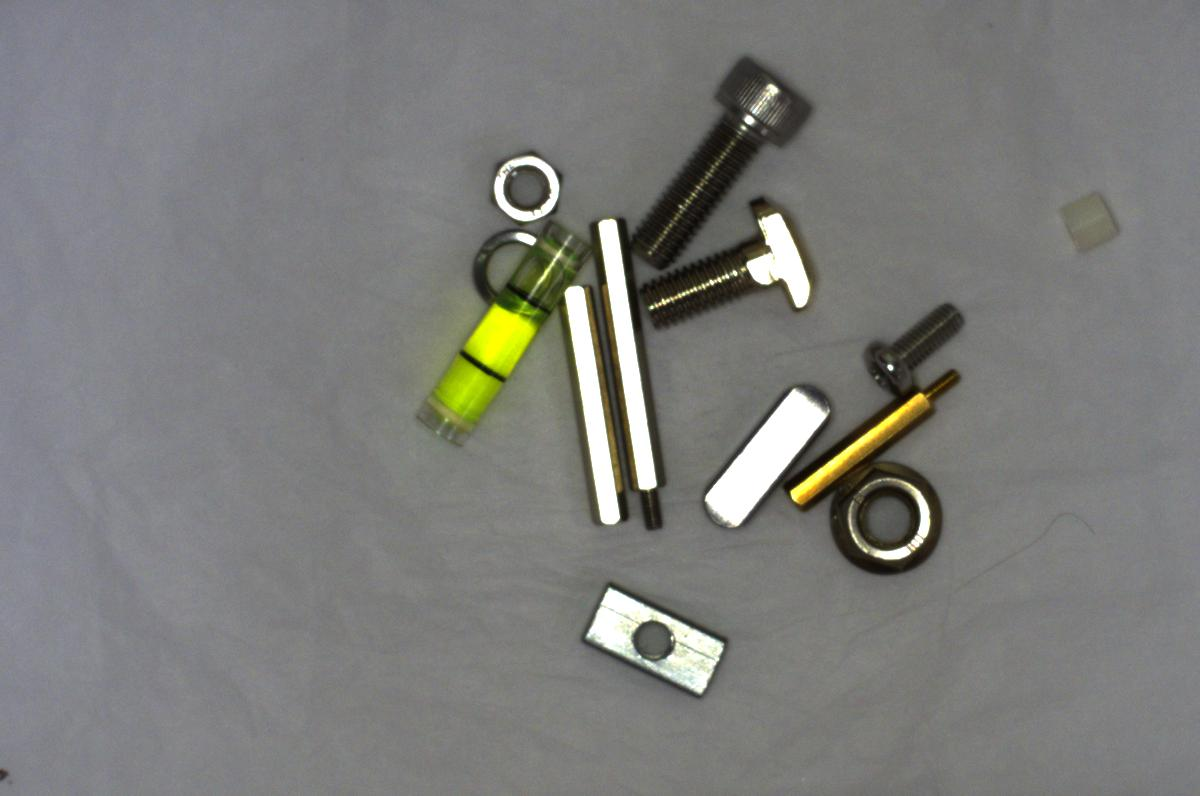Double hexagonal column: (557, 271, 628, 536)
Flange nut: (810, 458, 953, 582)
Hexagon nut: (483, 142, 566, 228)
Hexagon pillar: (791, 371, 961, 514)
Hexagon screw: (611, 58, 828, 272)
Hexagonal steel column: (591, 201, 682, 537)
Horizontal bubble: (388, 221, 598, 444)
Keybar: (665, 367, 828, 541)
Plastic cushion pillar: (1048, 183, 1130, 265)
Rectangular nut: (579, 581, 728, 698)
Round head screw: (850, 298, 975, 391)
Spring washer: (455, 235, 562, 314)
T-shaped screw: (644, 203, 832, 324)
